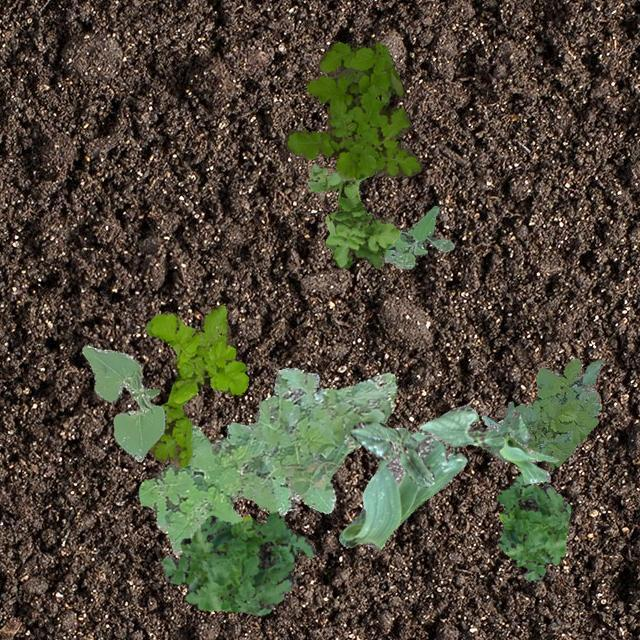crop: (338, 429, 466, 548), (80, 344, 166, 461), (481, 400, 558, 482), (348, 420, 432, 486), (418, 406, 528, 456)
weed: (138, 366, 396, 554), (284, 40, 422, 178), (146, 304, 248, 466), (160, 510, 316, 614), (497, 358, 602, 468), (306, 162, 398, 268), (496, 472, 570, 580), (382, 205, 453, 268)
